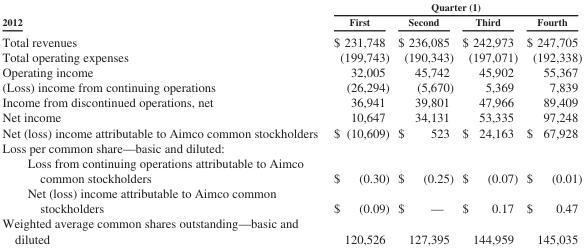table: (1, 0, 581, 245)
table column: (1, 0, 325, 245), (325, 0, 393, 245), (393, 0, 457, 245), (457, 0, 521, 245), (521, 0, 581, 245)
table column header: (1, 0, 581, 30)
table projected row header: (1, 139, 581, 154)
table row: (1, 154, 581, 185), (1, 185, 581, 215), (1, 215, 581, 245), (1, 30, 581, 48), (1, 14, 581, 30), (1, 48, 581, 64), (1, 64, 581, 79), (1, 79, 581, 94), (1, 94, 581, 109), (1, 109, 581, 124), (1, 124, 581, 139), (1, 139, 581, 154), (1, 0, 581, 14)
table spanning cell: (1, 0, 325, 30), (325, 0, 581, 14)
